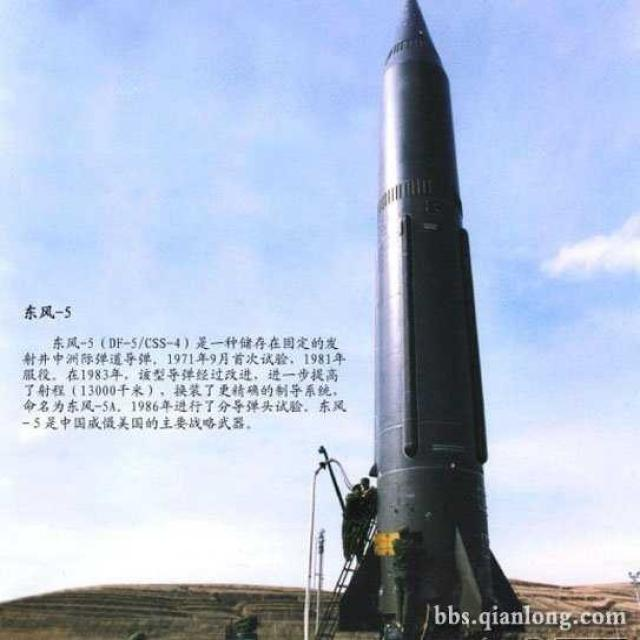missile: (322, 3, 527, 640)
